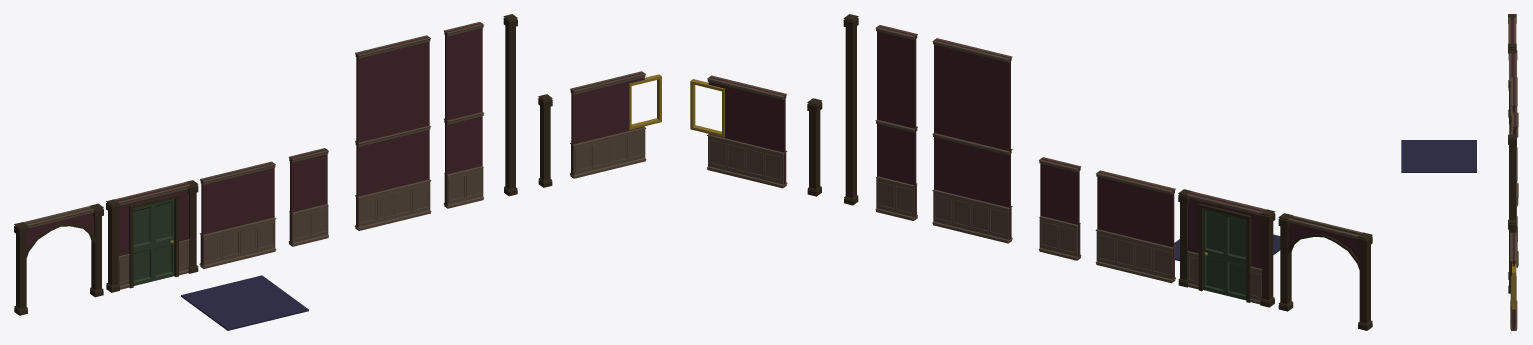
Rendered from Walls_Floors_InteriorAssests_UVsDoneFBX.fbx.
3 views of the same model, side by side, from view 1: azimuth 30°, elevation 25°; view 2: azimuth 150°, elevation 25°; view 3: azimuth 270°, elevation 25° (orthographic). The views are drawn at different scales.
Parts seen in each view (by area): view 1: pCube1 (×5), pCube2 (×5), Floor_Big, Door, polySurface24, Pillar_Tall, polySurface12, Pillar_Short, pCube24, pCube13, polySurface8, pCube25 (+3 smaller); view 2: pCube1 (×5), pCube2 (×5), Door, polySurface24, Pillar_Tall, polySurface12, polySurface8, pCube24, Pillar_Short, pCube13, pCube25, pCube23 (+2 smaller); view 3: Floor_Big, Pillar_Tall, pCube1 (×2), Pillar_Short, pCube58, polySurface24, pCube23, pCube25, polySurface12.
Part boxes in pixels (left/top/right/bottom): pCube1 (×5): left=26, top=23, right=482, bottom=267; pCube2 (×5): left=203, top=129, right=645, bottom=265; Floor_Big: left=181, top=275, right=308, bottom=330; Door: left=133, top=199, right=174, bottom=285; polySurface24: left=571, top=72, right=644, bottom=177; Pillar_Tall: left=503, top=14, right=517, bottom=196; polySurface12: left=114, top=183, right=190, bottom=255; Pillar_Short: left=538, top=94, right=552, bottom=187; pCube24: left=14, top=222, right=28, bottom=315; pCube13: left=106, top=199, right=120, bottom=292; polySurface8: left=129, top=194, right=178, bottom=288; pCube25: left=90, top=203, right=103, bottom=297; pCube1 (×5): left=877, top=26, right=1359, bottom=281; pCube2 (×5): left=708, top=136, right=1172, bottom=279; Door: left=1203, top=209, right=1246, bottom=300; polySurface24: left=708, top=76, right=785, bottom=187; Pillar_Tall: left=843, top=14, right=858, bottom=205; polySurface12: left=1186, top=192, right=1266, bottom=268; polySurface8: left=1198, top=203, right=1251, bottom=302; pCube24: left=1357, top=232, right=1372, bottom=330; Pillar_Short: left=807, top=98, right=822, bottom=196; pCube13: left=1260, top=209, right=1275, bottom=307; pCube25: left=1278, top=213, right=1293, bottom=311; pCube23: left=1178, top=189, right=1191, bottom=287; Floor_Big: left=1401, top=140, right=1476, bottom=172; Pillar_Tall: left=1508, top=134, right=1516, bottom=279; pCube1 (×2): left=1513, top=77, right=1516, bottom=232; Pillar_Short: left=1508, top=219, right=1516, bottom=293; pCube58: left=1512, top=262, right=1516, bottom=309; polySurface24: left=1512, top=232, right=1514, bottom=330; pCube23: left=1508, top=81, right=1517, bottom=147; pCube25: left=1508, top=43, right=1516, bottom=117; polySurface12: left=1511, top=52, right=1514, bottom=77.
Bounding box in the file's own units: 452 × 119 × 88.52.
